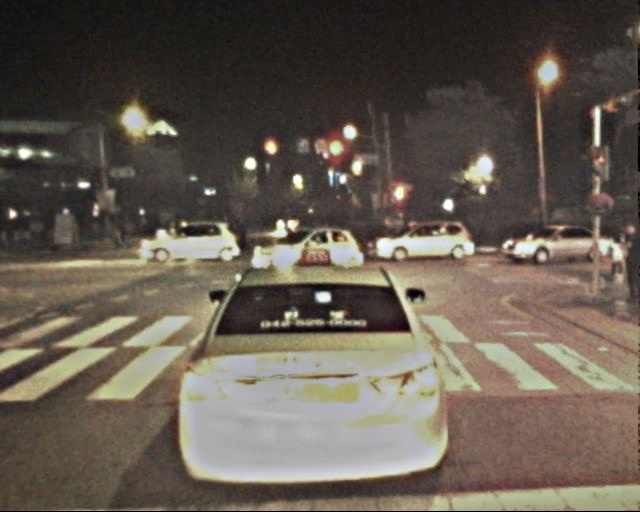person: (614, 224, 640, 301), (604, 229, 626, 283), (280, 218, 329, 233), (232, 216, 247, 246), (114, 216, 127, 248), (159, 217, 174, 244)
